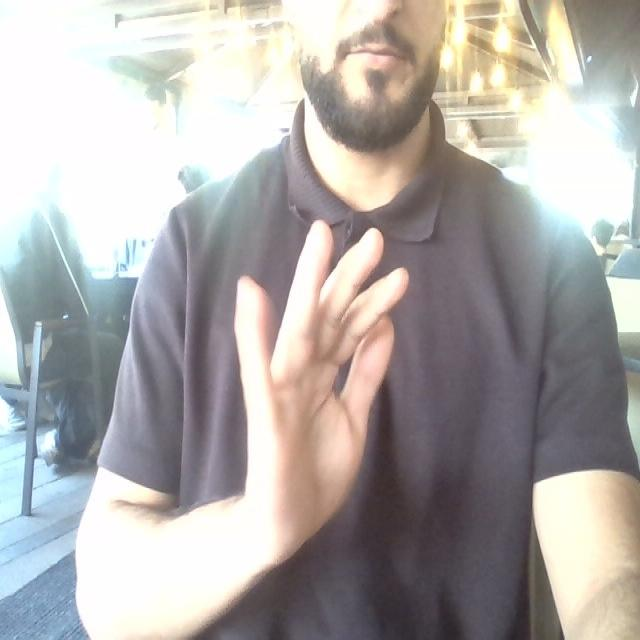Hand: (235, 223, 407, 561)
